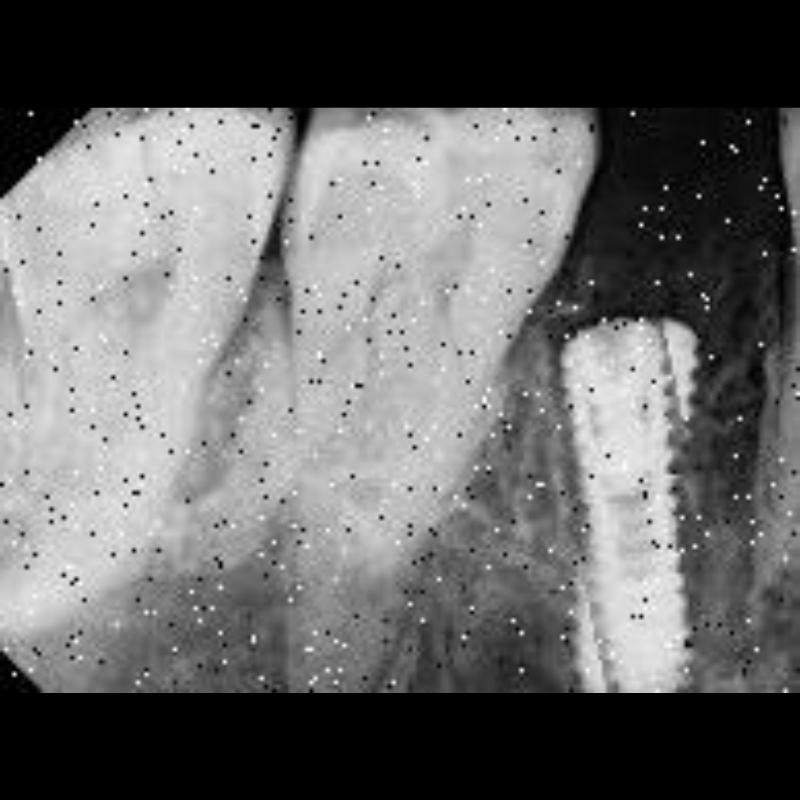osstem: (549, 298, 717, 693)
